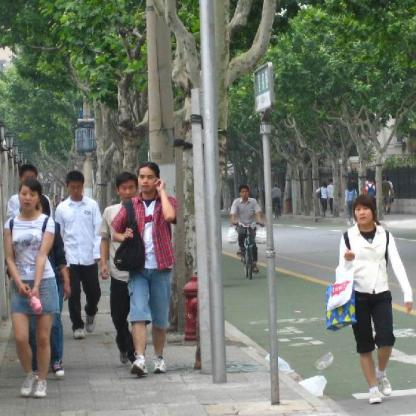person: (324, 194, 416, 416), (119, 156, 188, 378), (2, 180, 57, 398), (56, 168, 109, 337)
